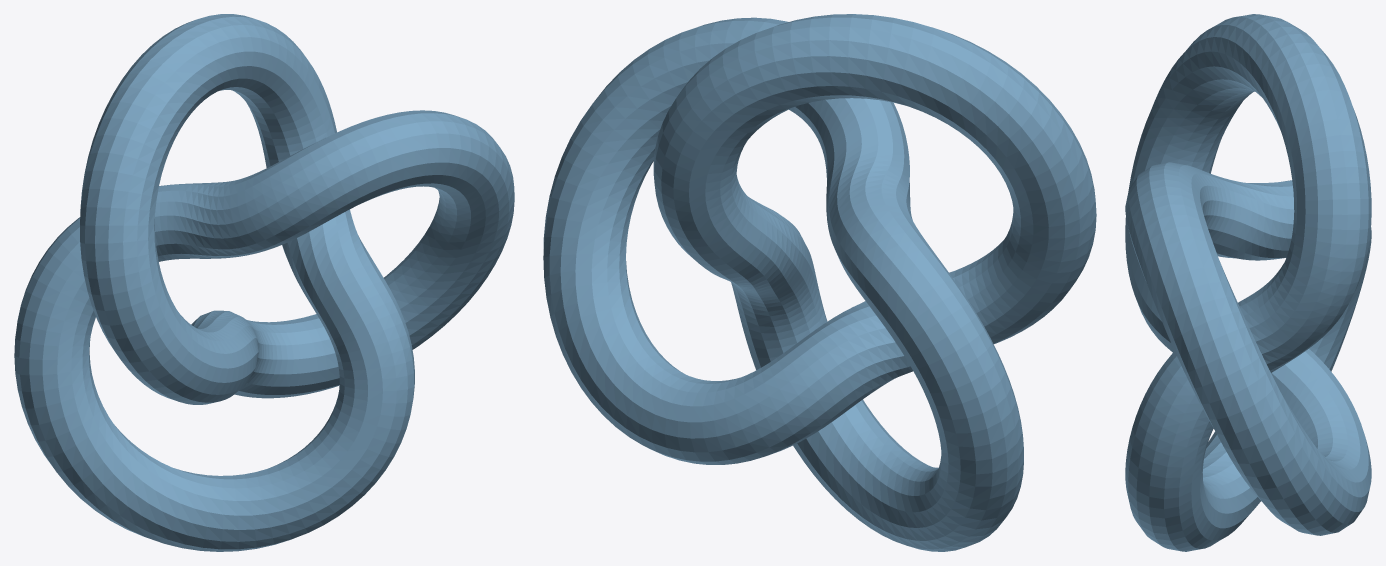
File: knot.glb
3 views of the same model, side by side, from view 1: azimuth 30°, elevation 25°; view 2: azimuth 150°, elevation 25°; view 3: azimuth 270°, elevation 25° (orthographic). The views are drawn at different scales.
Visible parts, largest first — view 1: knot; view 2: knot; view 3: knot.
Part boxes in pixels (x1,y1,x2,y2): knot: (14,14,514,551); knot: (543,14,1096,551); knot: (1125,14,1371,551).
Bounding box in the file's own units: 3.56 × 3.72 × 1.65.
